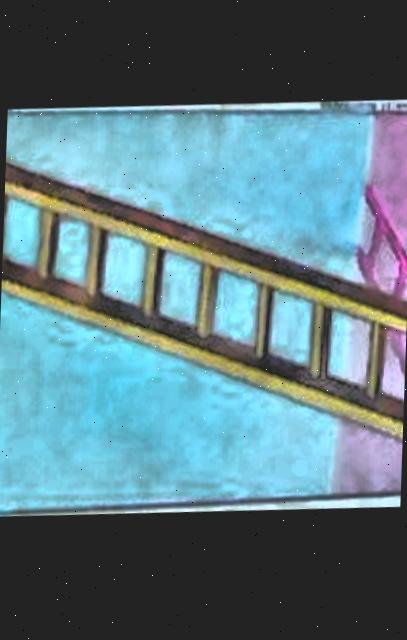La Escalera: (0, 97, 407, 527)
